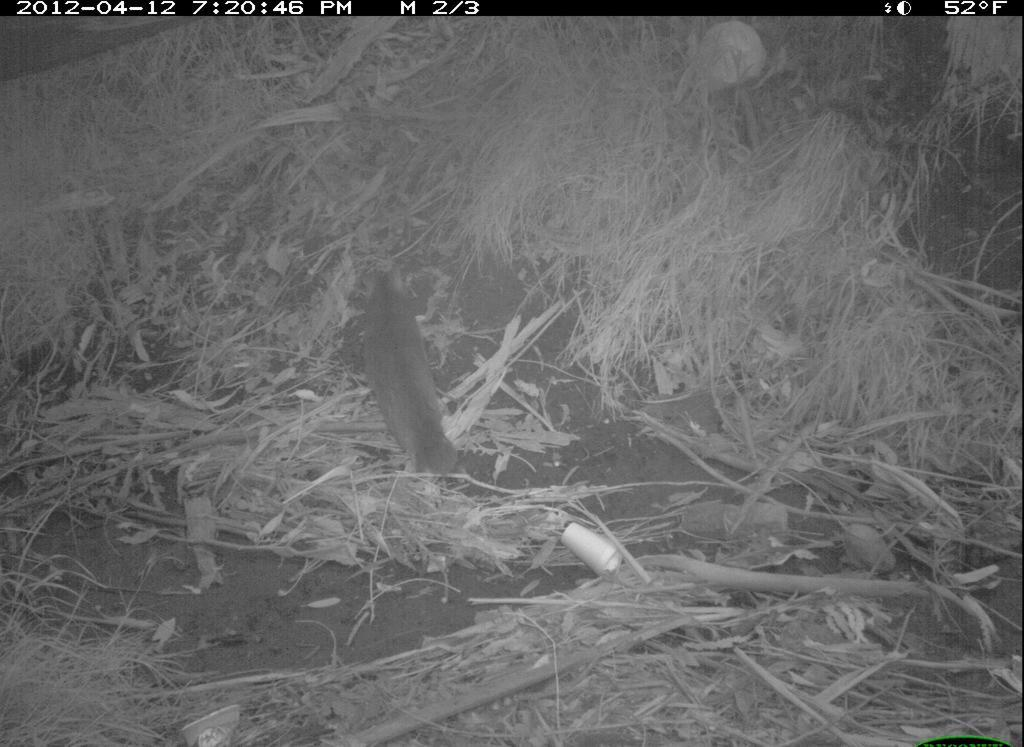cat: (332, 240, 489, 514)
